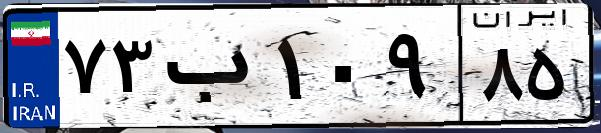0: (330, 28, 385, 110)
1: (270, 28, 330, 110)
3: (110, 28, 158, 98)
5: (525, 38, 570, 115)
7: (57, 26, 110, 100)
8: (475, 38, 525, 113)
9: (385, 28, 445, 110)
ب: (158, 20, 270, 120)
